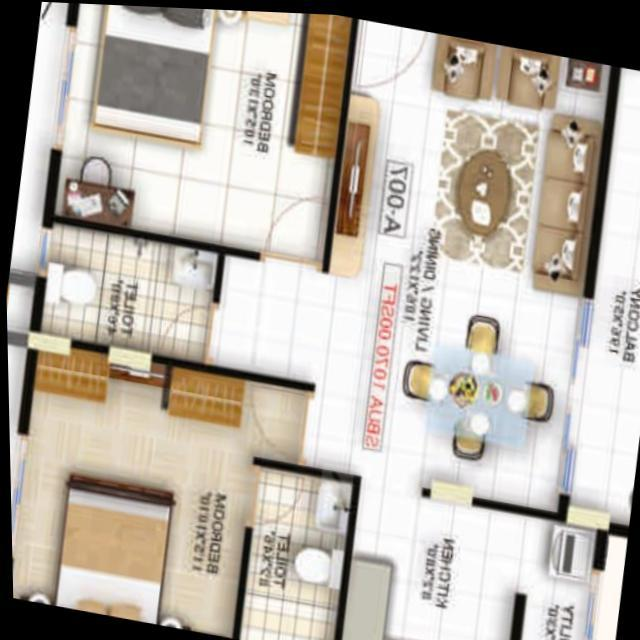Balcony-Sitout: (555, 59, 640, 532)
Bedroom: (38, 2, 356, 267)
Bedroom with Toilet: (9, 339, 359, 640)
Dining: (390, 294, 568, 472)
Enterance-Foyer: (345, 14, 440, 110)
Kitchen: (334, 471, 520, 640)
Living: (412, 29, 620, 296)
Toilet: (28, 220, 220, 370), (234, 454, 361, 640)
Utility: (506, 506, 608, 640)
